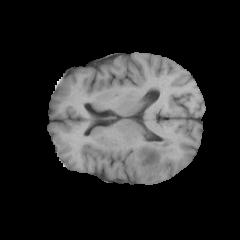glioma: (136, 137, 175, 175)
